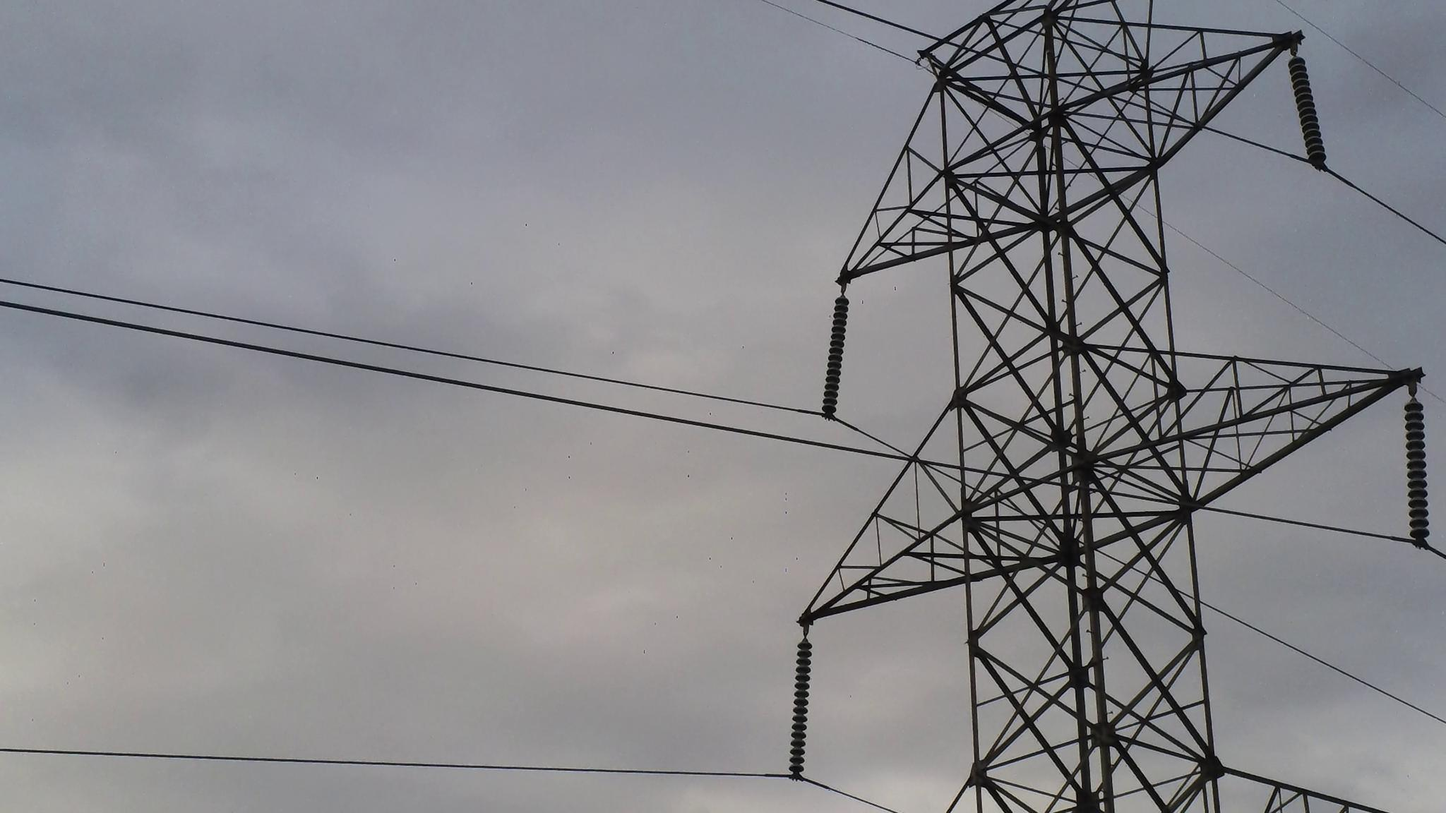tower: (782, 0, 1430, 812)
